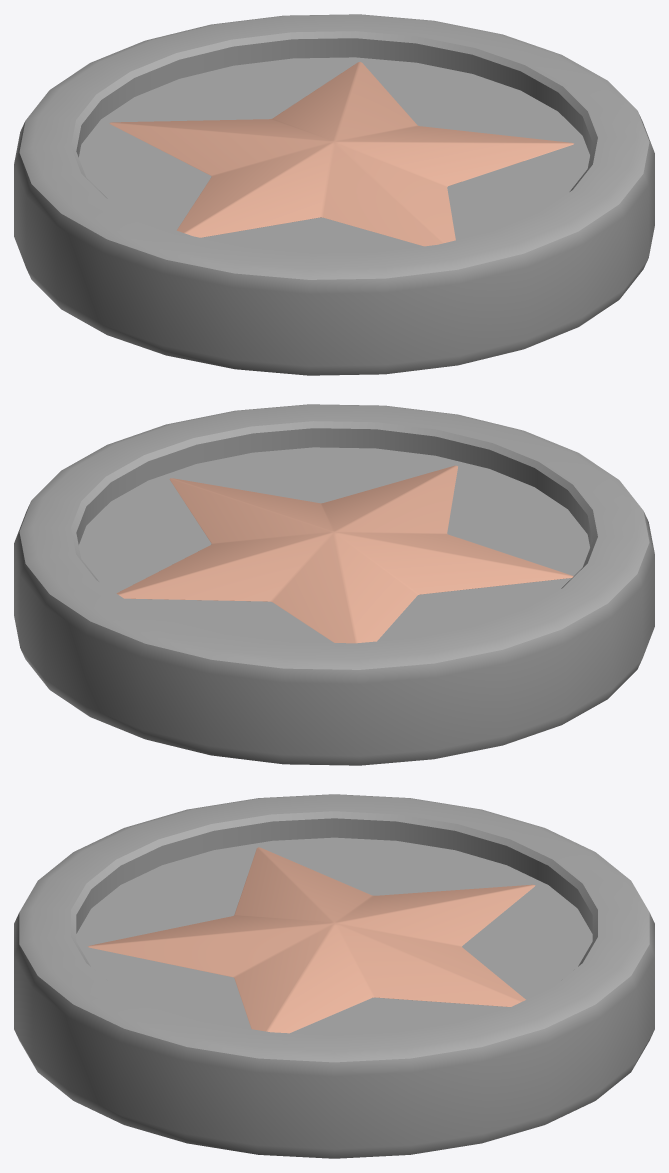
Rendered from coin_gold.fbx.
The picture shows the model from 3 angles, top to bottom: view 1: azimuth 30°, elevation 25°; view 2: azimuth 150°, elevation 25°; view 3: azimuth 270°, elevation 25°; orthographic projection.
Visible parts, largest first — view 1: pCylinder1, star2; view 2: pCylinder1, star2; view 3: pCylinder1, star2.
Part boxes in pixels (x1,y1,x2,y2): pCylinder1: [14, 14, 654, 375]; star2: [109, 62, 573, 246]; pCylinder1: [14, 404, 654, 765]; star2: [116, 465, 573, 643]; pCylinder1: [14, 794, 654, 1158]; star2: [88, 847, 535, 1033].
Size of the model in its own units: 0.7745 by 0.1408 by 0.7689.
